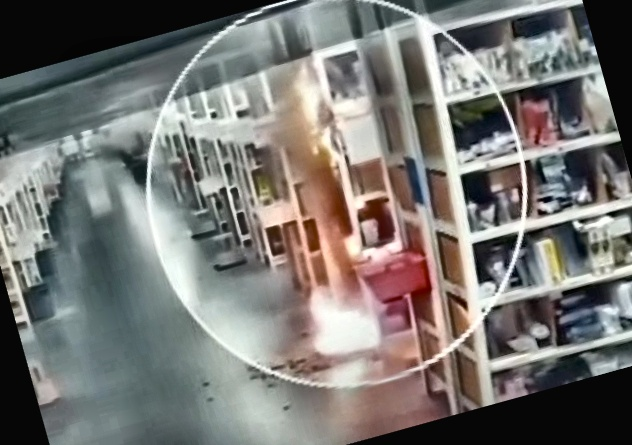fire: (226, 55, 405, 379)
